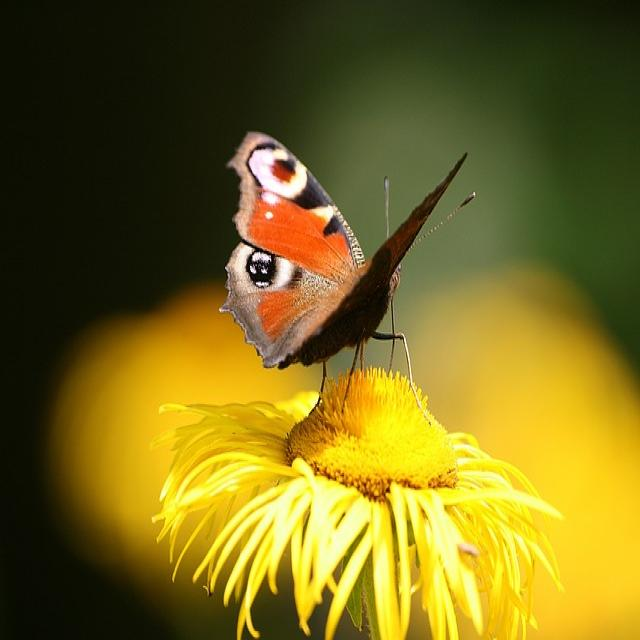butterfly: (220, 132, 467, 377)
